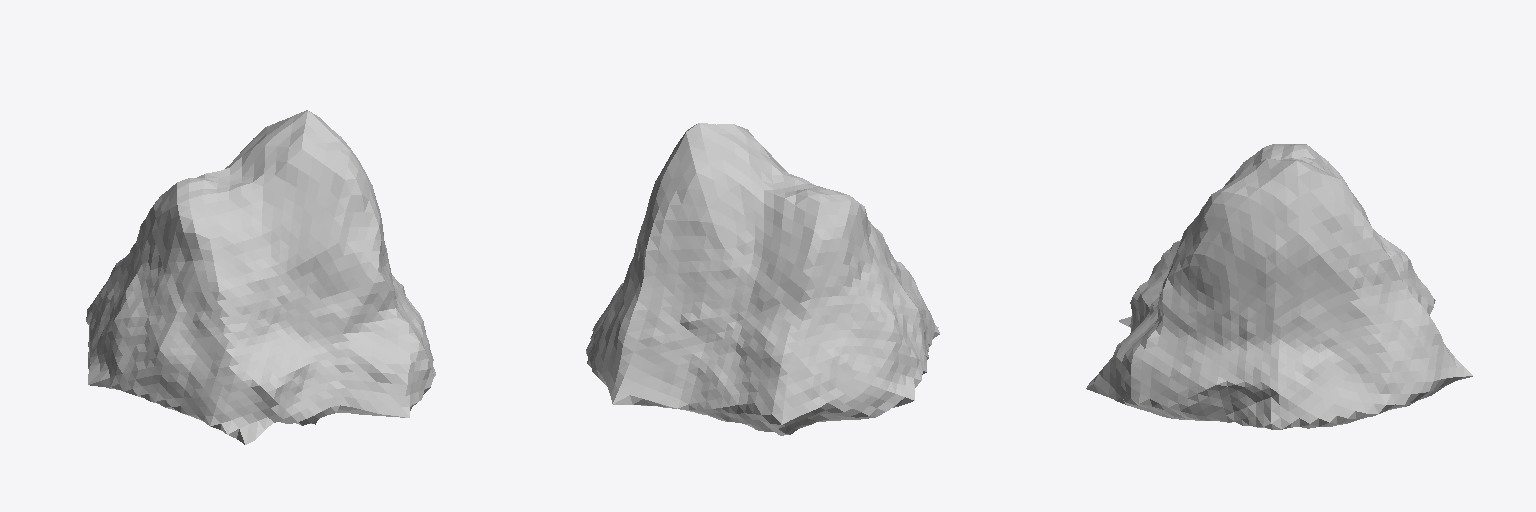
Rendered from Rock2.obj.
3 views of the same model, side by side, from view 1: azimuth 30°, elevation 25°; view 2: azimuth 150°, elevation 25°; view 3: azimuth 270°, elevation 25° (orthographic).
Visible parts, largest first — view 1: default; view 2: default; view 3: default.
Part boxes in pixels (left/top/right/bottom): default: left=86, top=110, right=435, bottom=444; default: left=586, top=123, right=939, bottom=435; default: left=1086, top=144, right=1472, bottom=429.
Size of the model in its own units: 2.16 by 1.64 by 2.31.